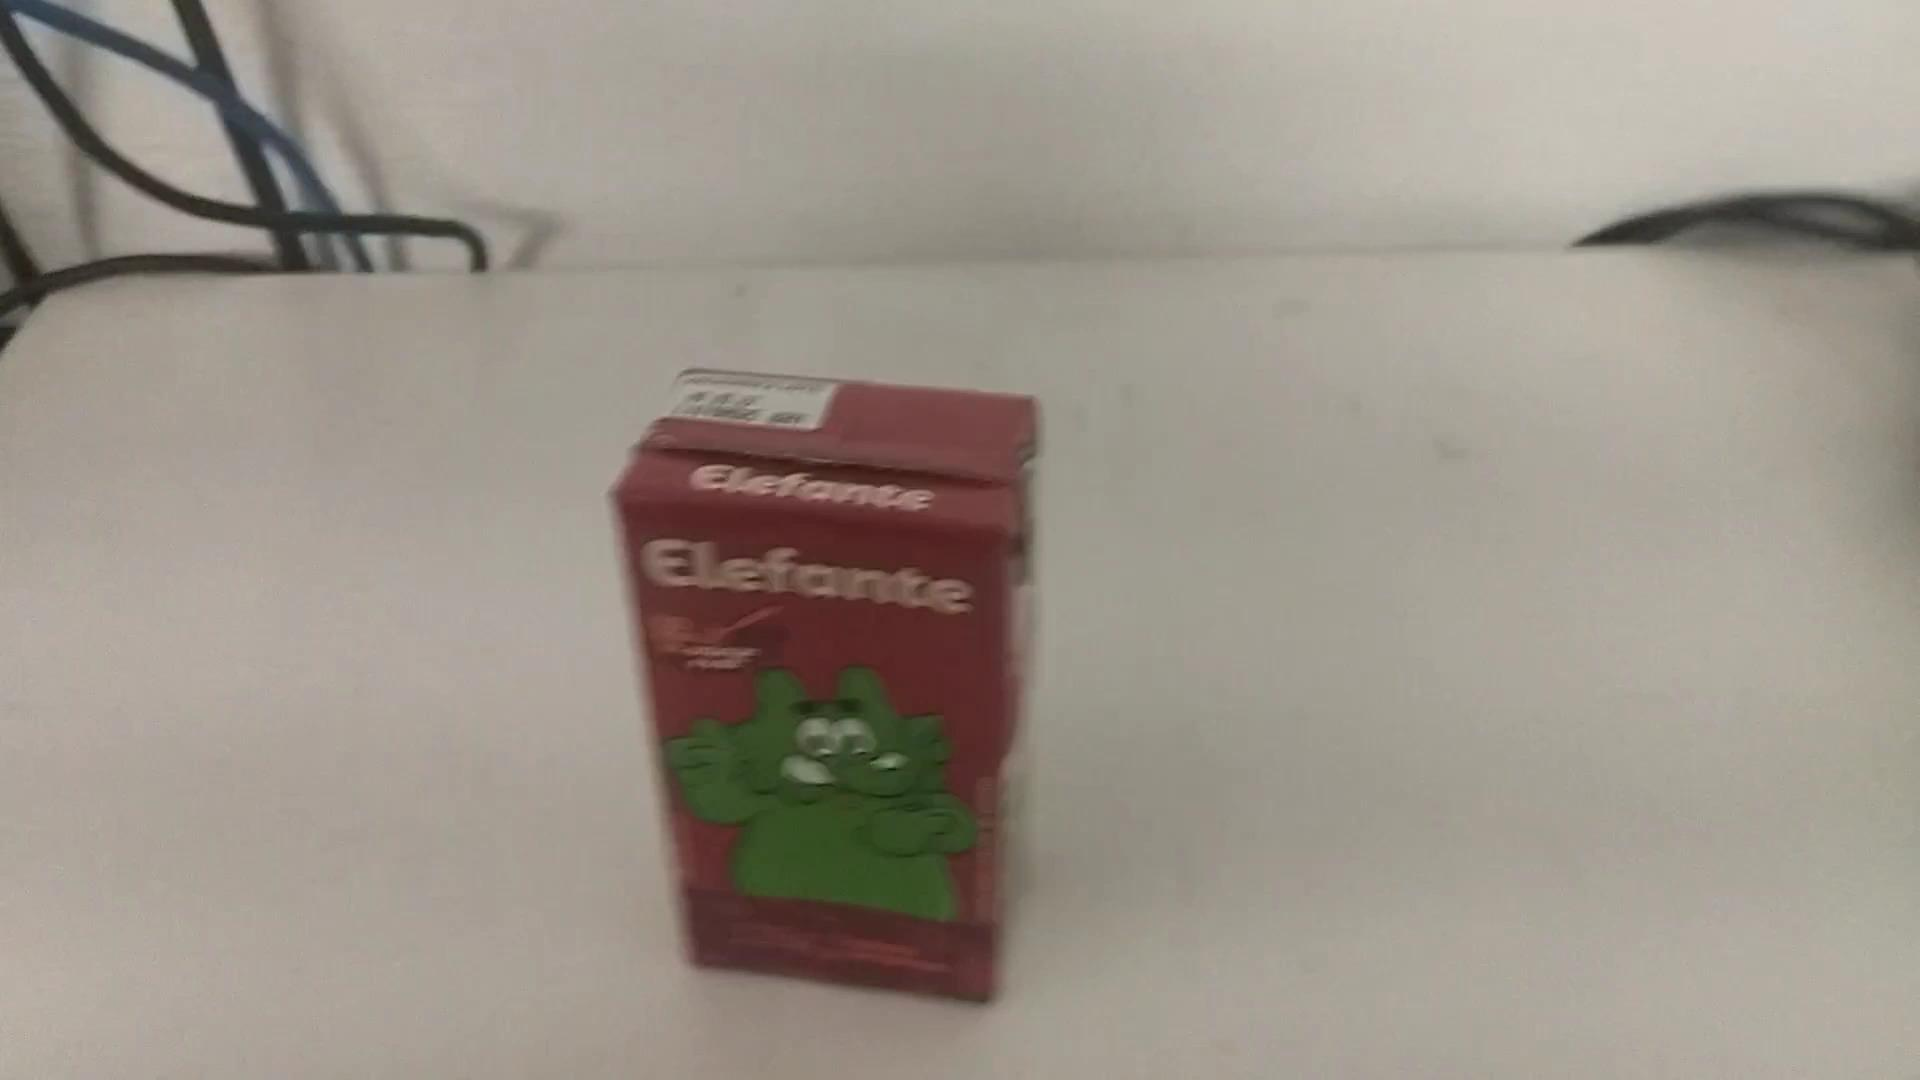tomate: (599, 335, 1075, 1017)
